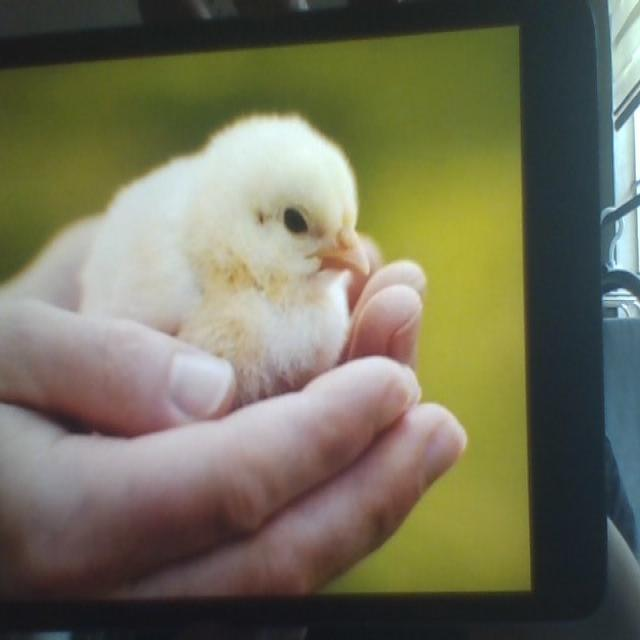Healthy: (80, 110, 362, 409)
